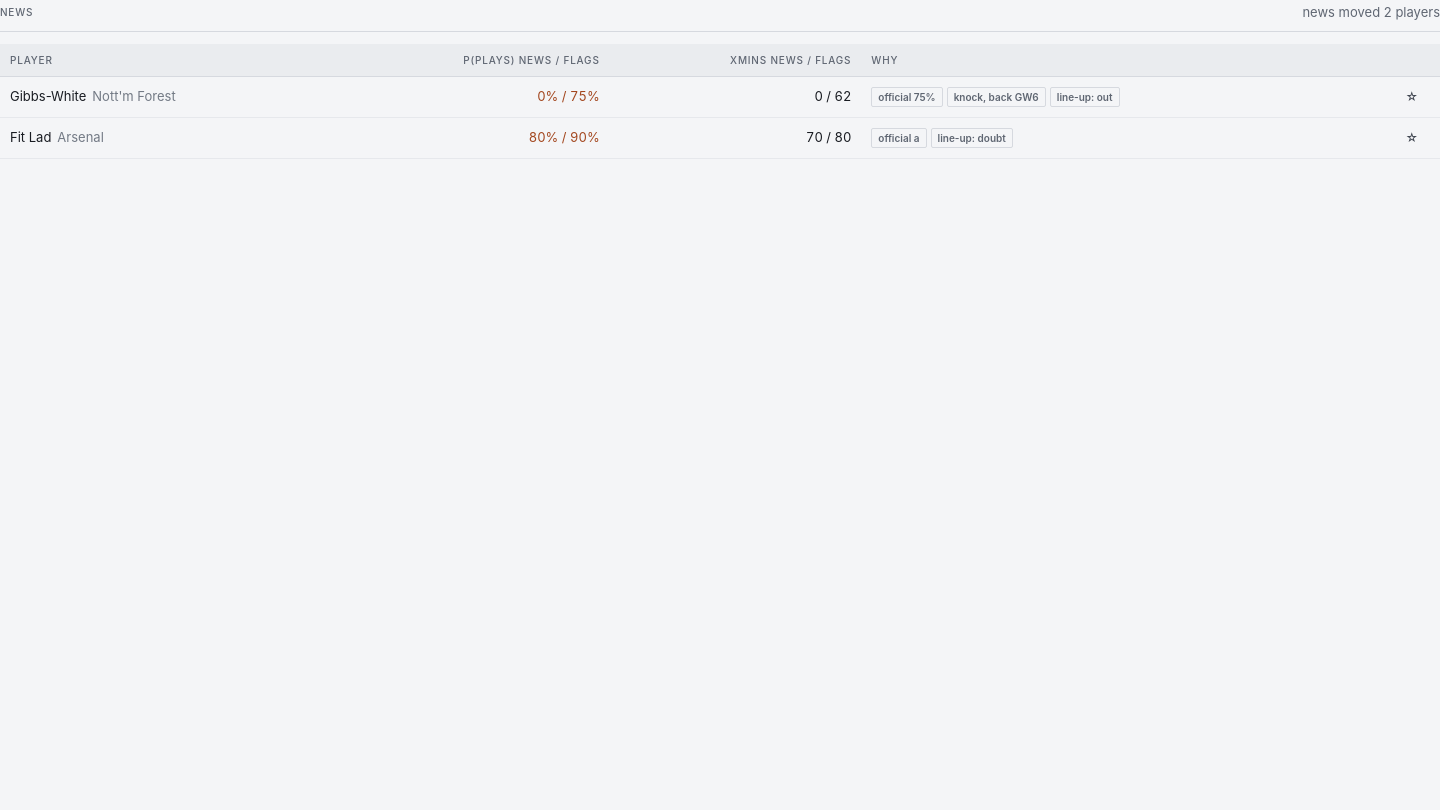
Test: NewsPanel › opens the pin dialog for the row whose star was clicked
The width and height of the screenshot is (1440, 810).
Expected: the button "Gibbs-White" is shown, [10, 87, 86, 106]
Click the button named "pin Gibbs-White".
click(1412, 96)  # box [1394, 82, 1430, 110]
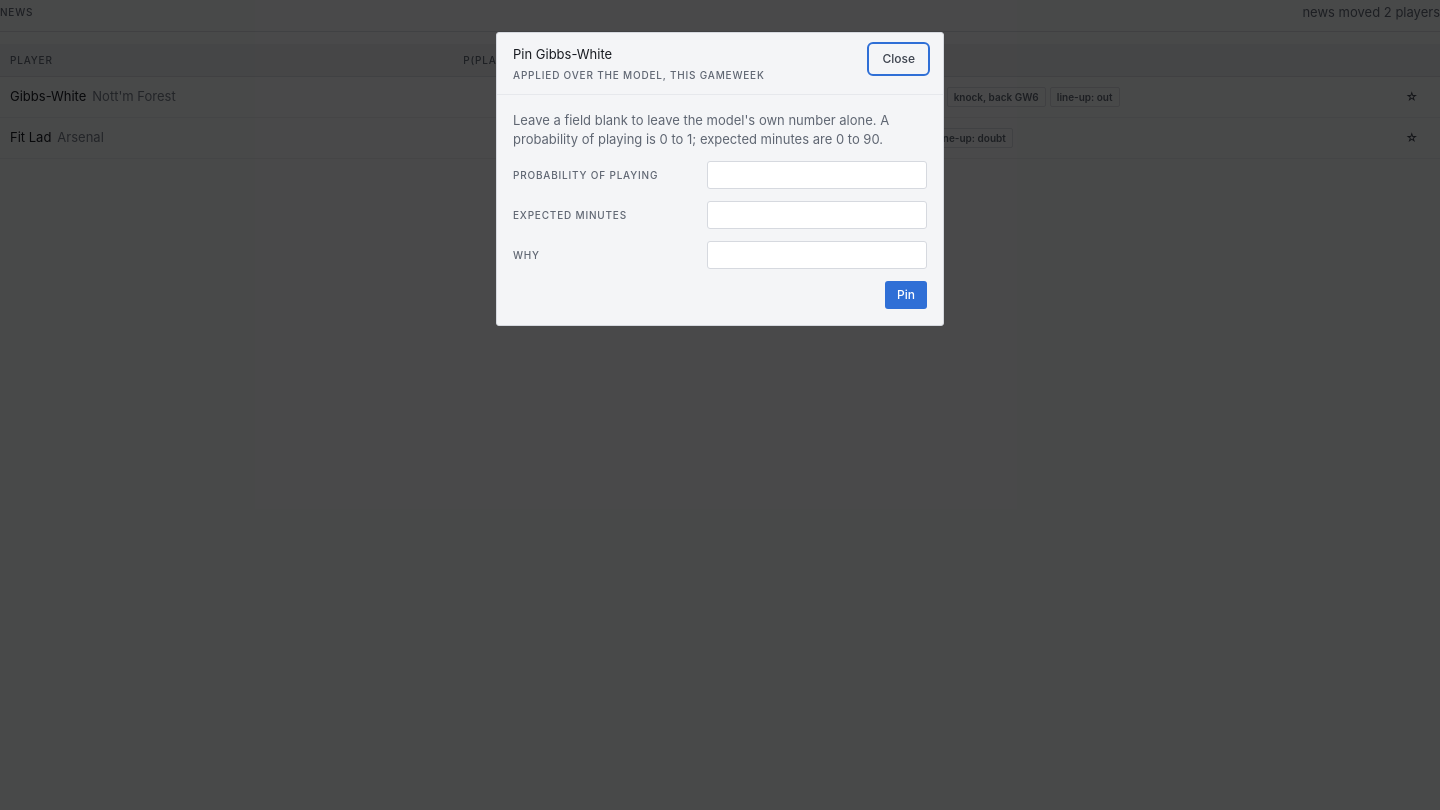
Expected: the heading "Pin Gibbs-White" is shown, [513, 46, 612, 62]
